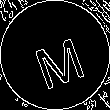M_N: (24, 24, 86, 86)
